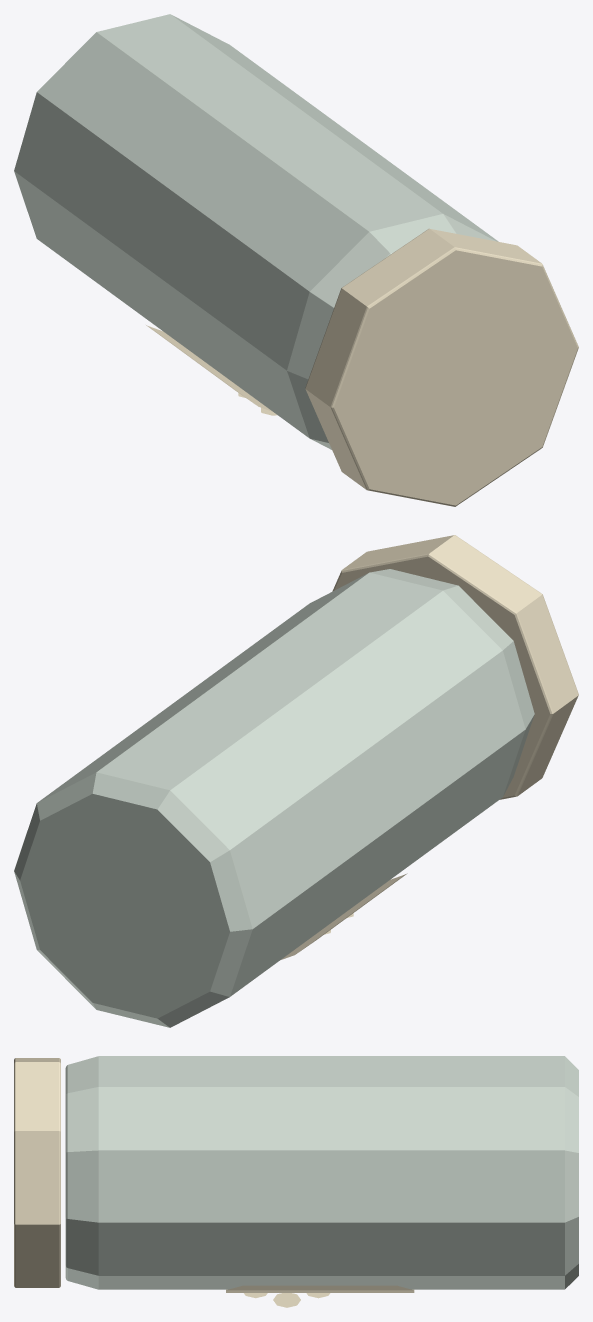
Rendered from vanilla_pods.glb.
3 renders of one model, top to bottom at view 1: azimuth 30°, elevation 25°; view 2: azimuth 150°, elevation 25°; view 3: azimuth 270°, elevation 25°, orthographic. The views are drawn at different scales.
Parts seen in each view (by area): view 1: vanilla_pods; view 2: vanilla_pods; view 3: vanilla_pods.
Boxes of the visible parts, x1=… form: vanilla_pods: x1=14, y1=14, x2=578, y2=506; vanilla_pods: x1=14, y1=535, x2=578, y2=1027; vanilla_pods: x1=14, y1=1056, x2=578, y2=1307.
Size of the model in its own units: 0.052 by 0.053 by 0.12.
